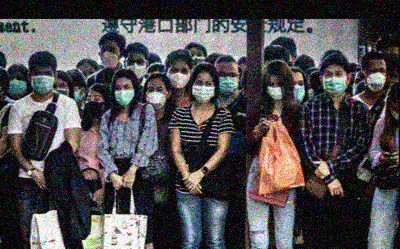with_mask: (321, 67, 347, 95), (215, 68, 239, 94), (364, 65, 388, 91), (146, 83, 169, 109), (30, 68, 54, 92), (192, 77, 215, 102), (166, 65, 189, 88), (115, 81, 135, 106), (7, 73, 27, 97), (85, 91, 103, 117), (125, 57, 146, 79), (289, 77, 306, 103), (266, 77, 286, 99), (100, 44, 118, 67), (390, 104, 399, 124)
